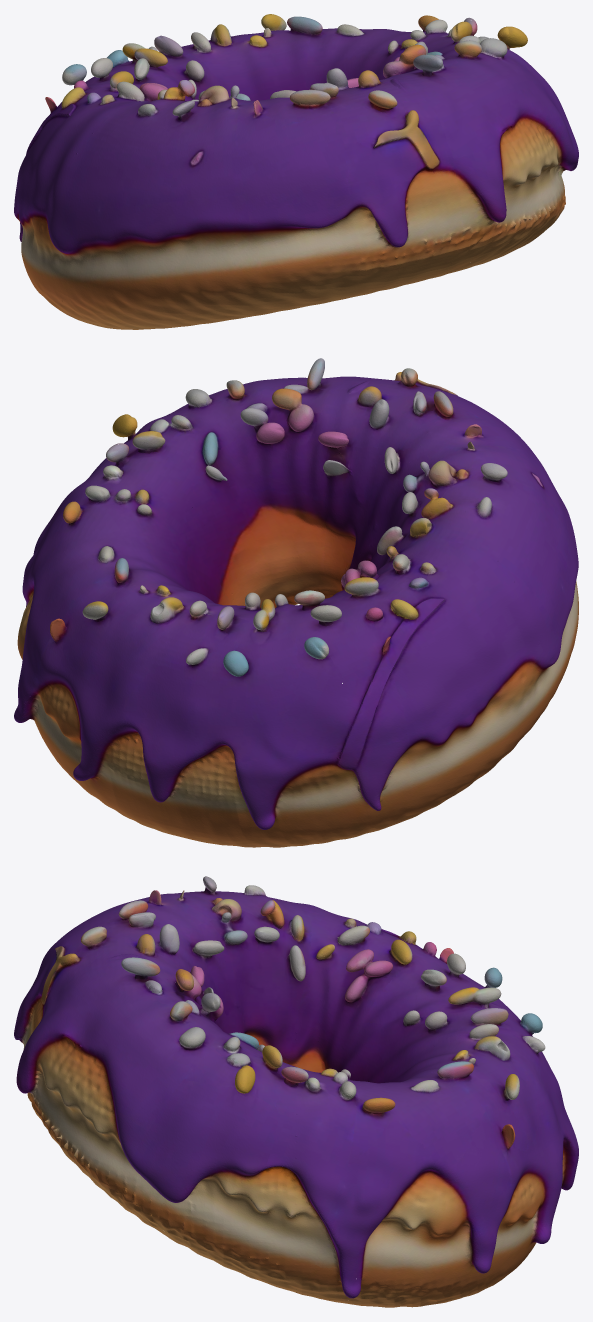
Rendered from purple-donut.glb.
The picture shows the model from 3 angles, top to bottom: view 1: azimuth 30°, elevation 25°; view 2: azimuth 150°, elevation 25°; view 3: azimuth 270°, elevation 25°; orthographic projection.
Parts seen in each view (by area): view 1: tripo_node_d43b5bb4-6701-45db-816b-bd87eeb11ac8; view 2: tripo_node_d43b5bb4-6701-45db-816b-bd87eeb11ac8; view 3: tripo_node_d43b5bb4-6701-45db-816b-bd87eeb11ac8.
Part boxes in pixels (bbox=[...]): tripo_node_d43b5bb4-6701-45db-816b-bd87eeb11ac8: bbox=[14, 14, 578, 329]; tripo_node_d43b5bb4-6701-45db-816b-bd87eeb11ac8: bbox=[14, 358, 578, 847]; tripo_node_d43b5bb4-6701-45db-816b-bd87eeb11ac8: bbox=[14, 876, 578, 1307].
Bounding box in the file's own units: 1 × 0.6387 × 0.999.
Materials: 1 (1 with a texture image).
